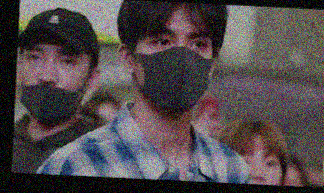mask_weared_incorrect: (17, 46, 91, 125)
with_mask: (131, 23, 213, 112)
without_mask: (237, 147, 282, 183)
